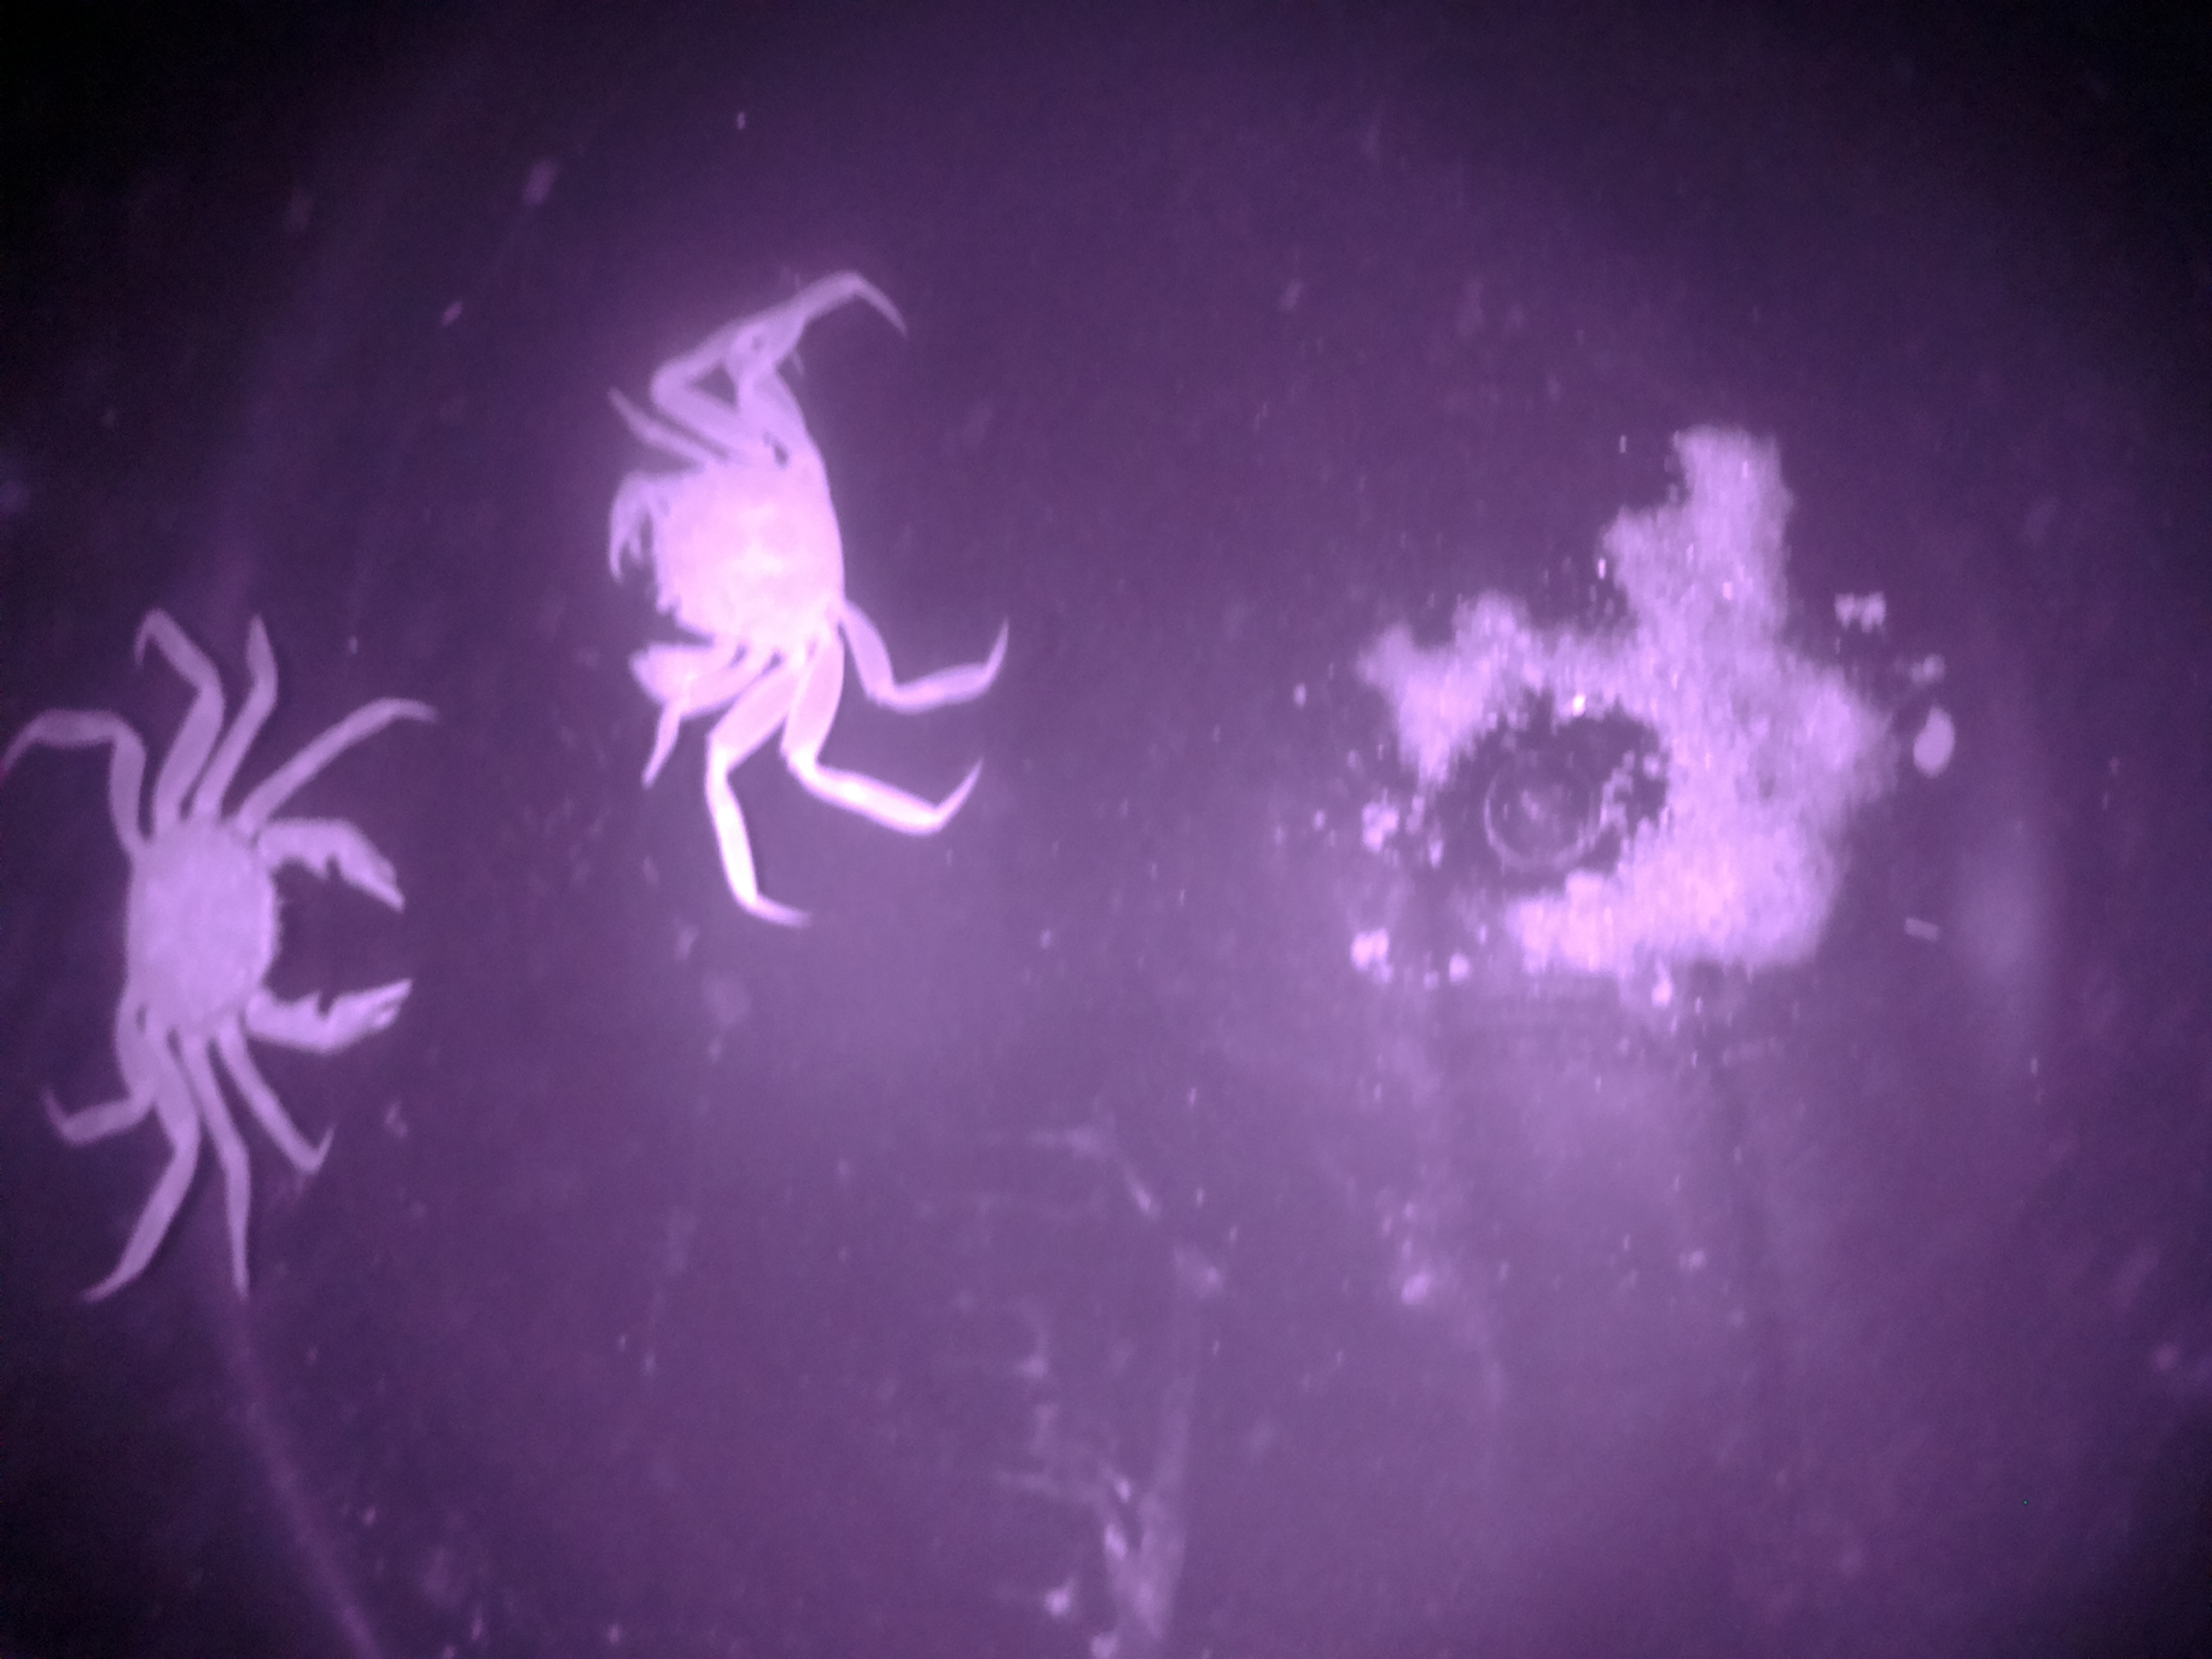Crab: (0, 685, 521, 1173), (564, 373, 965, 809)
